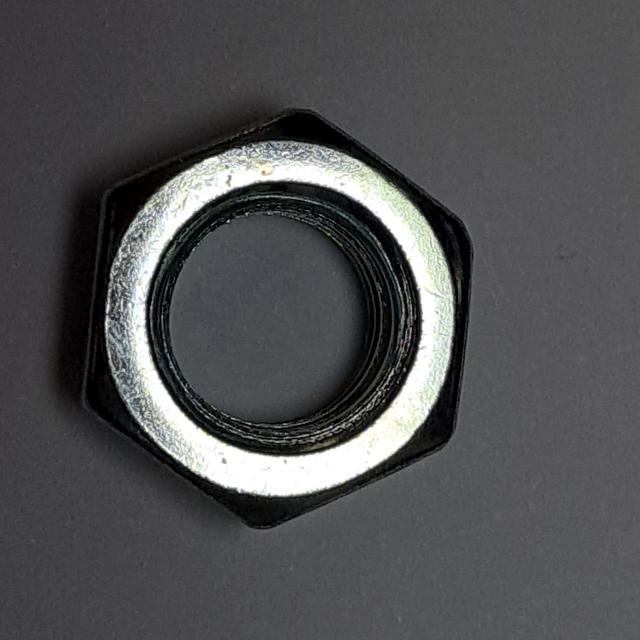Excellent: (70, 85, 483, 544)
